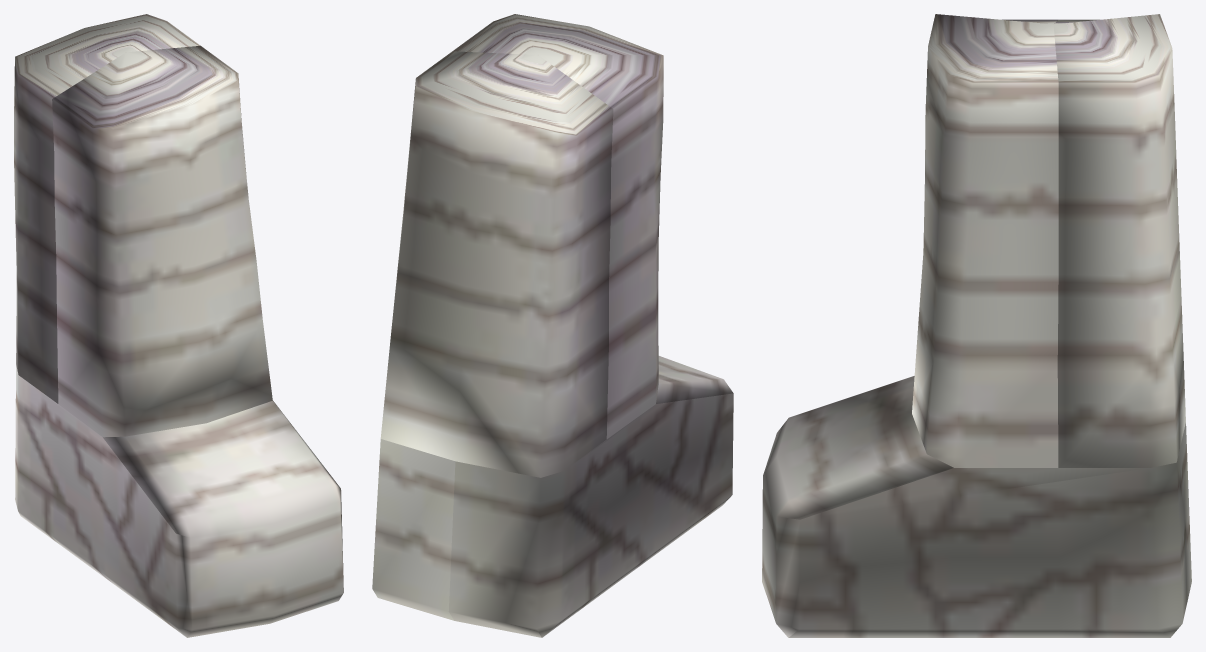
The model's file is left_leg-2_townie_spooky_mel_mummy.blend.obj.
3 renders of one model, left to right at view 1: azimuth 30°, elevation 25°; view 2: azimuth 150°, elevation 25°; view 3: azimuth 270°, elevation 25°, orthographic. The views are drawn at different scales.
Visible parts, largest first — view 1: left_leg-2_townie_spooky_mel_mummy.blend_defaultobject.002_meshI; view 2: left_leg-2_townie_spooky_mel_mummy.blend_defaultobject.002_meshI; view 3: left_leg-2_townie_spooky_mel_mummy.blend_defaultobject.002_meshI.
Boxes of the visible parts, <box> form: left_leg-2_townie_spooky_mel_mummy.blend_defaultobject.002_meshI: <box>14,14,343,637</box>; left_leg-2_townie_spooky_mel_mummy.blend_defaultobject.002_meshI: <box>372,14,733,637</box>; left_leg-2_townie_spooky_mel_mummy.blend_defaultobject.002_meshI: <box>762,14,1191,637</box>.
Bounding box in the file's own units: 0.2263 × 0.5919 × 0.4123.
Materials: 1 (1 with a texture image).
